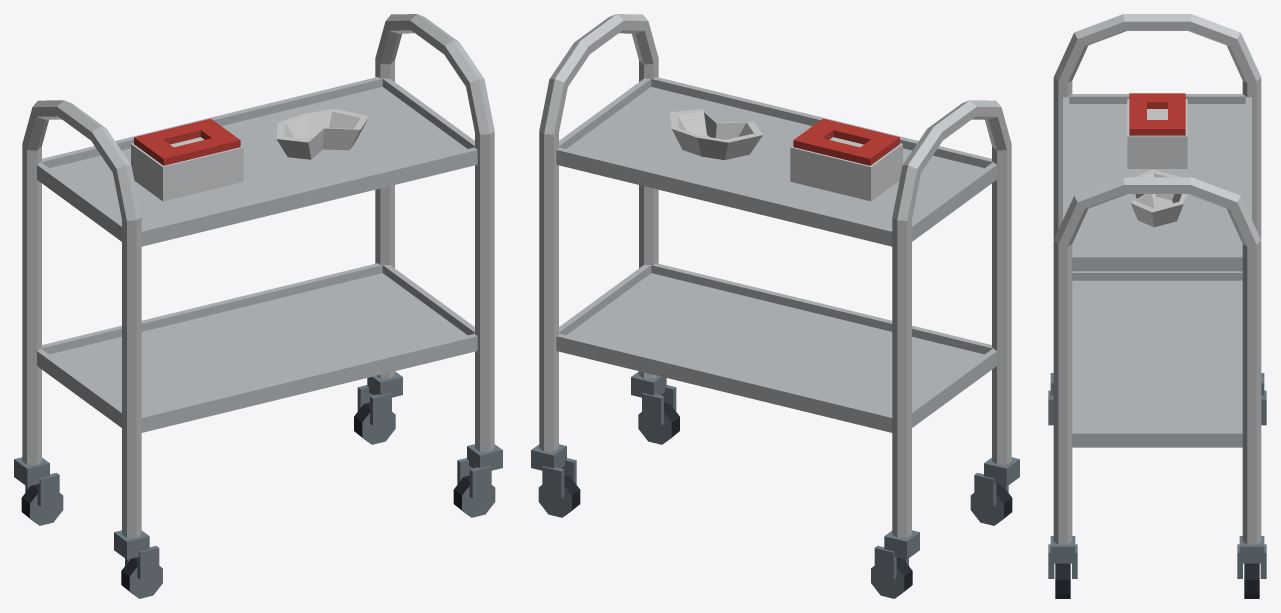
The model's file is instrument-trolley-bb1ff7.glb.
3 renders of one model, left to right at view 1: azimuth 30°, elevation 25°; view 2: azimuth 150°, elevation 25°; view 3: azimuth 270°, elevation 25°, orthographic. The views are drawn at different scales.
Visible parts, largest first — view 1: instrument-trolley, sharps-tray, kidney-dish, caster-fr, caster-rr, caster-rl, caster-fl, wheel-fr, wheel-rl, wheel-fl, wheel-rr; view 2: instrument-trolley, sharps-tray, kidney-dish, caster-rr, caster-fr, caster-fl, caster-rl, wheel-rr, wheel-fl, wheel-rl, wheel-fr; view 3: instrument-trolley, sharps-tray, kidney-dish, caster-fr, caster-rr, wheel-fr, wheel-rr.
Part boxes in pixels (x1,y1,x2,y2): instrument-trolley: (22, 14, 494, 537); sharps-tray: (131, 118, 243, 201); kidney-dish: (276, 108, 369, 159); caster-fr: (457, 444, 502, 498); caster-rr: (357, 371, 402, 425); caster-rl: (14, 457, 59, 506); caster-fl: (114, 530, 159, 579); wheel-fr: (453, 475, 495, 517); wheel-rl: (21, 484, 63, 525); wheel-fl: (121, 557, 162, 598); wheel-rr: (354, 402, 395, 444); instrument-trolley: (539, 14, 1011, 537); sharps-tray: (790, 118, 902, 201); kidney-dish: (670, 109, 762, 159); caster-rr: (531, 444, 576, 498); caster-fr: (631, 371, 676, 425); caster-fl: (974, 457, 1019, 506); caster-rl: (874, 530, 919, 579); wheel-rr: (538, 475, 580, 517); wheel-fl: (970, 484, 1012, 525); wheel-rl: (871, 557, 912, 598); wheel-fr: (638, 402, 679, 444); instrument-trolley: (1053, 14, 1261, 544); sharps-tray: (1127, 93, 1187, 168); kidney-dish: (1130, 169, 1187, 227); caster-fr: (1048, 536, 1077, 578); caster-rr: (1237, 536, 1266, 578); wheel-fr: (1055, 563, 1070, 598); wheel-rr: (1244, 563, 1259, 598).
Size of the model in its own units: 0.792 by 0.9 by 0.42.
